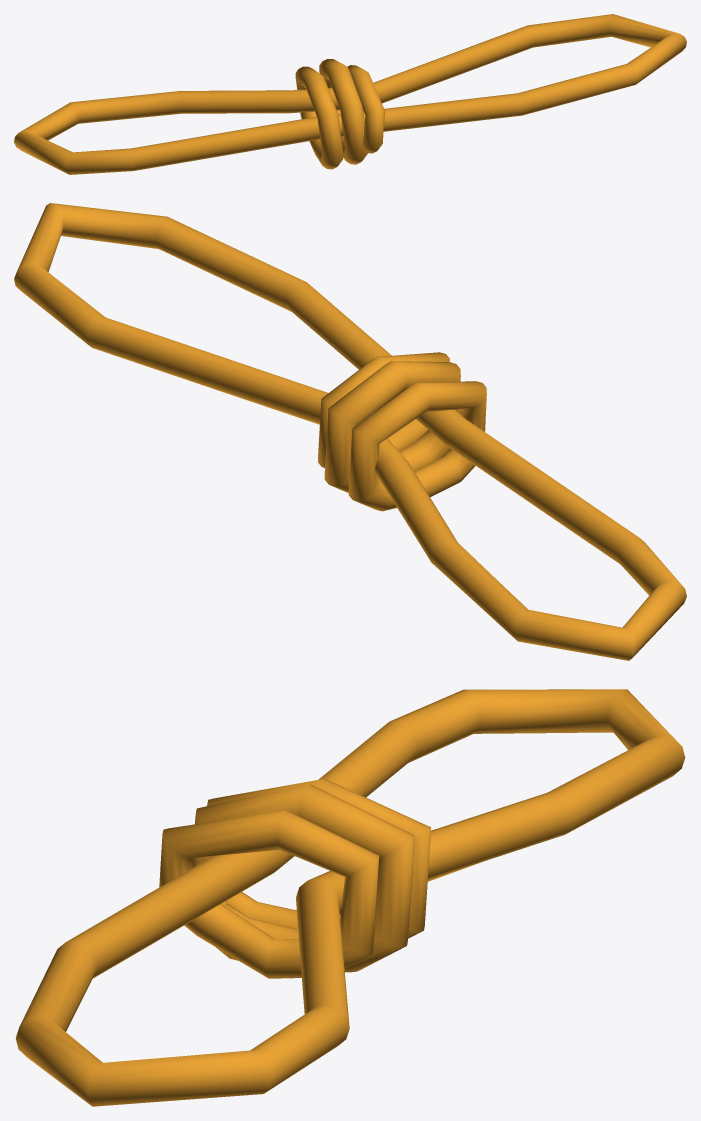
The model's file is Paracord.glb.
3 views of the same model, one above another, from view 1: azimuth 30°, elevation 25°; view 2: azimuth 150°, elevation 25°; view 3: azimuth 270°, elevation 25° (orthographic). The views are drawn at different scales.
Parts seen in each view (by area): view 1: Paracord; view 2: Paracord; view 3: Paracord.
Part boxes in pixels (x1,y1,x2,y2): Paracord: (14, 14, 686, 174); Paracord: (14, 203, 686, 660); Paracord: (15, 689, 685, 1106).
Size of the model in its own units: 0.1563 by 0.0253 by 0.0844.
1 material, 1 textured.
